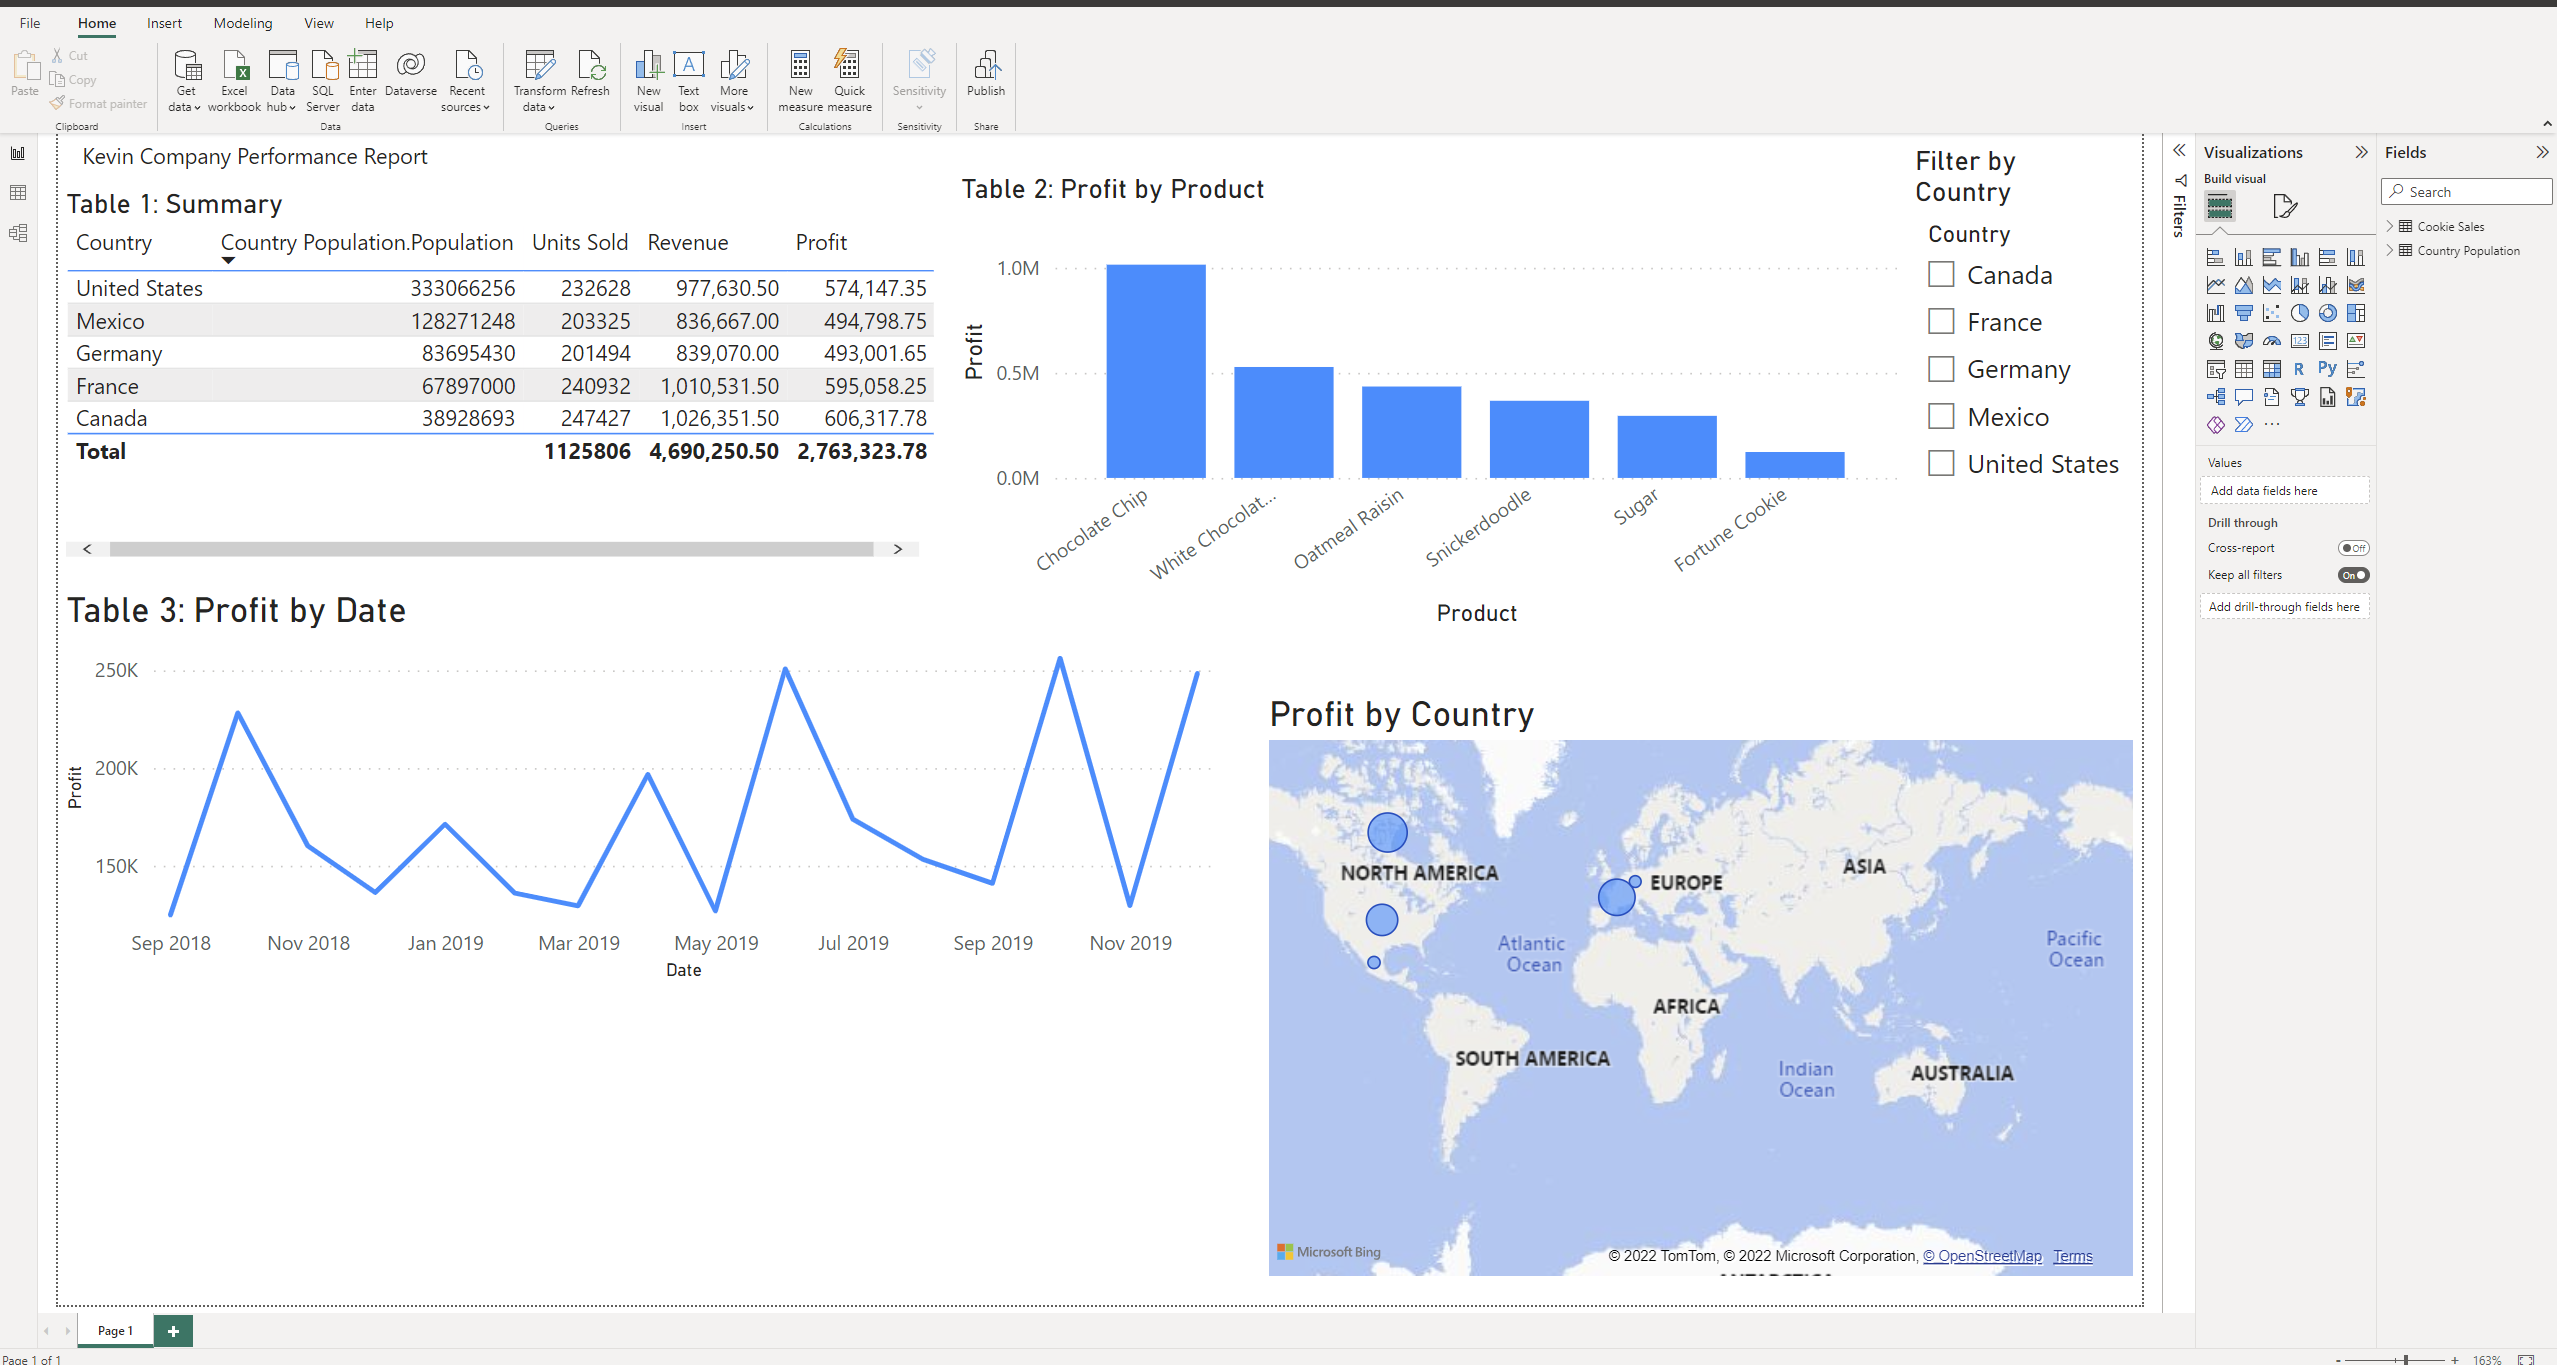

The page's visual inventory and layout, read from the dashboard file:
{"tool":"powerbi","page":{"name":"Page 1","canvas":[1280,720],"ordinal":0},"visuals":[{"type":"textbox","box":[9.8,0,280.1,28.9],"z":0},{"type":"lineChart","title":"Table 3: Profit by Date","fields":{"Category":["Cookie Sales.Date"],"Y":["Cookie Sales.Profit"]},"box":[0,280.1,731.1,245.1],"z":1000},{"type":"map","fields":{"Category":["Cookie Sales.Country"],"Size":["Cookie Sales.Profit"]},"box":[739,344,541.2,363.1],"z":2000},{"type":"tableEx","title":"Table 1: Summary","fields":{"Values":["Cookie Sales.Country","Cookie Sales.Country Population.Population","Cookie Sales.Units Sold","Cookie Sales.Revenue","Cookie Sales.Profit"]},"box":[0,33.2,543.1,232.2],"z":3000},{"type":"columnChart","title":"Table 2: Profit by Product","fields":{"Category":["Cookie Sales.Product"],"Y":["Cookie Sales.Profit"]},"box":[549.8,24,586.1,283.8],"z":4000},{"type":"slicer","title":"Filter by Country","fields":{"Values":["Cookie Sales.Country"]},"box":[1135.9,6.8,138.8,229.1],"z":5000},{"type":"textbox","box":[0,540,731.1,180],"z":6000}]}

Visuals, with their boxes on the page's 1280x720 design canvas (x1, y1, x2, y2). These are canvas units, not pixel positions in the 2557x1365 screenshot, which may show the page scaled, cropped or inside an application window:
textbox: [left=10, top=0, right=290, bottom=29]
"Table 3: Profit by Date" lineChart: [left=0, top=280, right=731, bottom=525]
map - Cookie Sales.Country x Cookie Sales.Profit: [left=739, top=344, right=1280, bottom=707]
"Table 1: Summary" tableEx: [left=0, top=33, right=543, bottom=265]
"Table 2: Profit by Product" columnChart: [left=550, top=24, right=1136, bottom=308]
"Filter by Country" slicer: [left=1136, top=7, right=1275, bottom=236]
textbox: [left=0, top=540, right=731, bottom=720]
